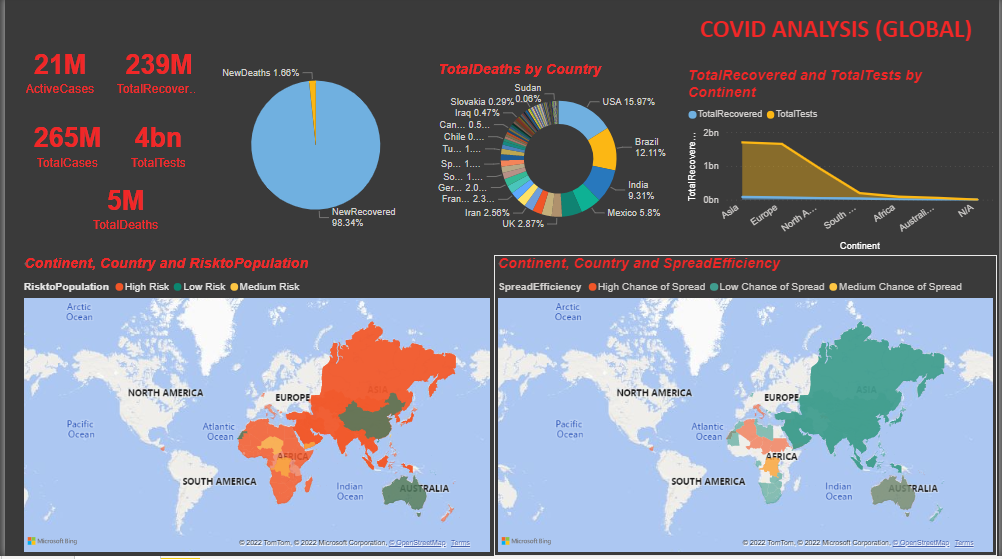

Layout of this report page (visuals, bound fields, positions):
{"tool":"powerbi","page":{"name":"GLOBAL","canvas":[1280,720],"ordinal":2},"visuals":[{"type":"card","fields":{"Values":["Sum(WORLD VIEW.ActiveCases)"]},"box":[9.9,50.9,120.2,86.3],"z":0},{"type":"card","fields":{"Values":["Sum(WORLD VIEW.TotalCases)"]},"box":[9.9,137.2,138.6,101.8],"z":1000},{"type":"card","fields":{"Values":["Sum(WORLD VIEW.TotalDeaths)"]},"box":[79.2,226.3,149.9,86.3],"z":2000},{"type":"card","fields":{"Values":["Sum(WORLD VIEW.TotalRecovered)"]},"box":[137.2,50.9,120.2,86.3],"z":3000},{"type":"card","fields":{"Values":["Sum(WORLD VIEW.TotalTests)"]},"box":[130.1,137.2,134.4,101.8],"z":4000},{"type":"donutChart","fields":{"Y":["Sum(WORLD VIEW.TotalDeaths)"],"Category":["WORLD VIEW.Country"]},"box":[553.1,82,321.1,230.6],"z":5000},{"type":"pieChart","fields":{"Y":["Sum(WORLD VIEW.NewRecovered)","Sum(WORLD VIEW.NewDeaths)"]},"box":[247.5,67.9,305.5,244.7],"z":6000},{"type":"filledMap","fields":{"Series":["WORLD VIEW.RisktoPopulation"],"Category":["WORLD VIEW.Continent Hierarchy.Continent","WORLD VIEW.Continent Hierarchy.Country"]},"box":[19.8,332.4,609.7,387.6],"z":7000},{"type":"filledMap","fields":{"Series":["WORLD VIEW.SpreadEfficiency"],"Category":["WORLD VIEW.Continent Hierarchy.Continent","WORLD VIEW.Continent Hierarchy.Country"]},"box":[629.5,332.4,647.9,387.6],"z":8000},{"type":"stackedAreaChart","fields":{"Y":["Sum(WORLD VIEW.TotalRecovered)","Sum(WORLD VIEW.TotalTests)"],"Category":["WORLD VIEW.Continent Hierarchy.Continent","WORLD VIEW.Continent Hierarchy.Country"]},"box":[874.2,90.5,403.1,241.9],"z":9000},{"type":"textbox","box":[889.7,17,390.4,50.9],"z":10000}]}

Visuals, with their boxes in screenshot pixels (x1, y1, x2, y2), scaled from the page's 1280x720 canvas onto the 1002x559 screenshot:
card - Sum(WORLD VIEW.ActiveCases): 8 40 102 107
card - Sum(WORLD VIEW.TotalCases): 8 107 116 186
card - Sum(WORLD VIEW.TotalDeaths): 62 176 179 243
card - Sum(WORLD VIEW.TotalRecovered): 107 40 201 107
card - Sum(WORLD VIEW.TotalTests): 102 107 207 186
donutChart - Sum(WORLD VIEW.TotalDeaths) x WORLD VIEW.Country: 433 64 684 243
pieChart - Sum(WORLD VIEW.NewRecovered) x Sum(WORLD VIEW.NewDeaths): 194 53 433 243
filledMap - WORLD VIEW.RisktoPopulation x WORLD VIEW.Continent Hierarchy.Continent: 15 258 493 558
filledMap - WORLD VIEW.SpreadEfficiency x WORLD VIEW.Continent Hierarchy.Continent: 493 258 1000 558
stackedAreaChart - Sum(WORLD VIEW.TotalRecovered) x Sum(WORLD VIEW.TotalTests): 684 70 1000 258
textbox: 696 13 1001 53
